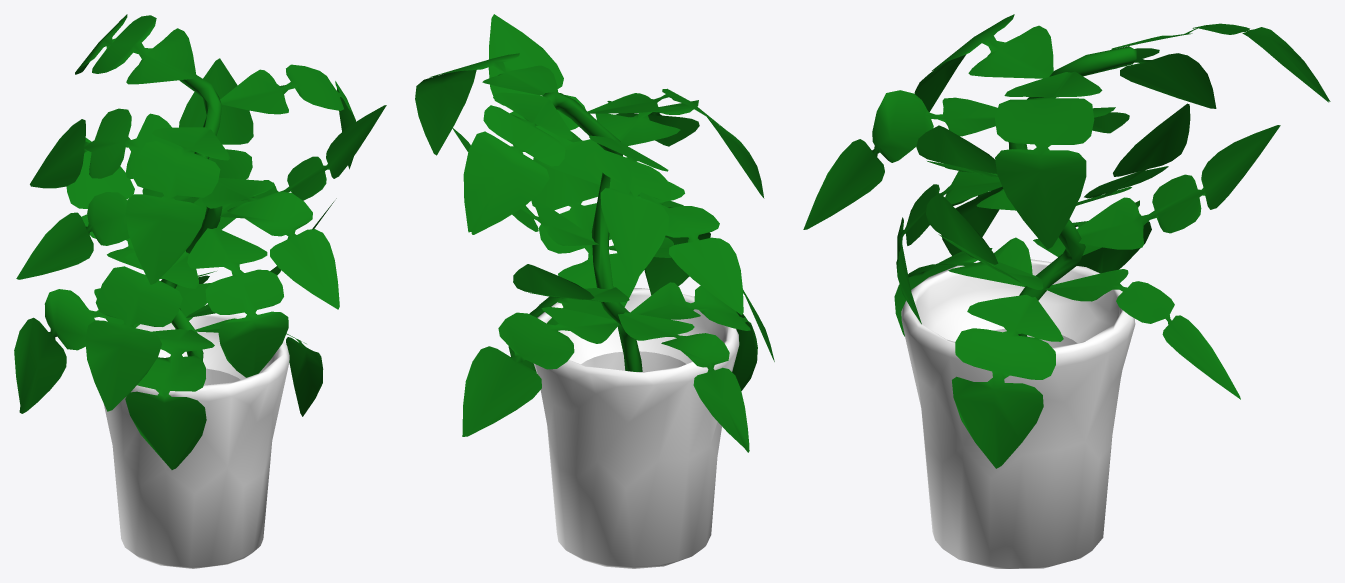
The model's file is bigleafplant.fbx.
3 renders of one model, left to right at view 1: azimuth 30°, elevation 25°; view 2: azimuth 150°, elevation 25°; view 3: azimuth 270°, elevation 25°, orthographic. The views are drawn at different scales.
Parts seen in each view (by area): view 1: r.0005; view 2: r.0005; view 3: r.0005.
Boxes of the visible parts, box(x1,y1,x2,y2) form: r.0005: box(14, 14, 386, 568); r.0005: box(415, 14, 774, 568); r.0005: box(803, 14, 1330, 568).
Size of the model in its own units: 99.1 by 136 by 120.
